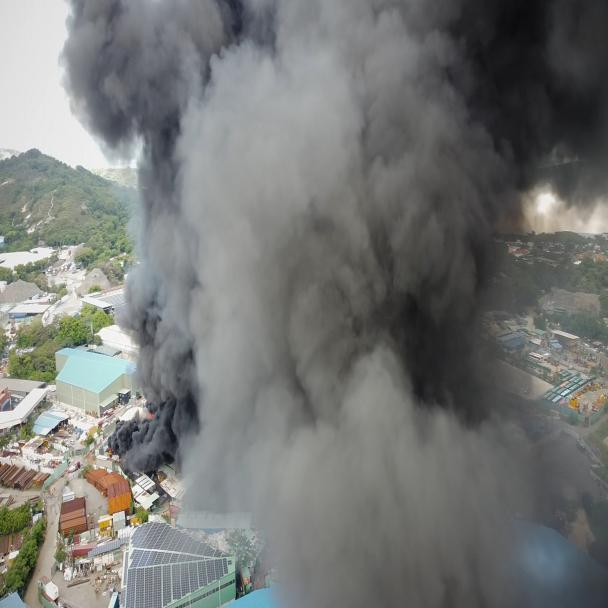smoke: (25, 0, 608, 608)
